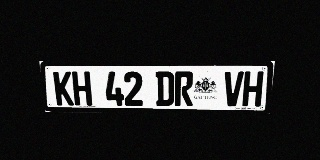2: (124, 71, 143, 106)
4: (104, 71, 124, 106)
D: (156, 71, 174, 106)
H: (242, 71, 264, 106), (72, 71, 92, 106)
K: (53, 71, 74, 106)
R: (175, 71, 194, 106)
V: (223, 71, 244, 106)
